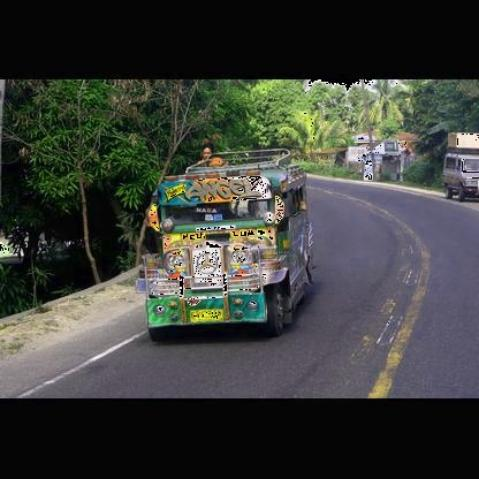jeepney: (137, 141, 314, 344)
